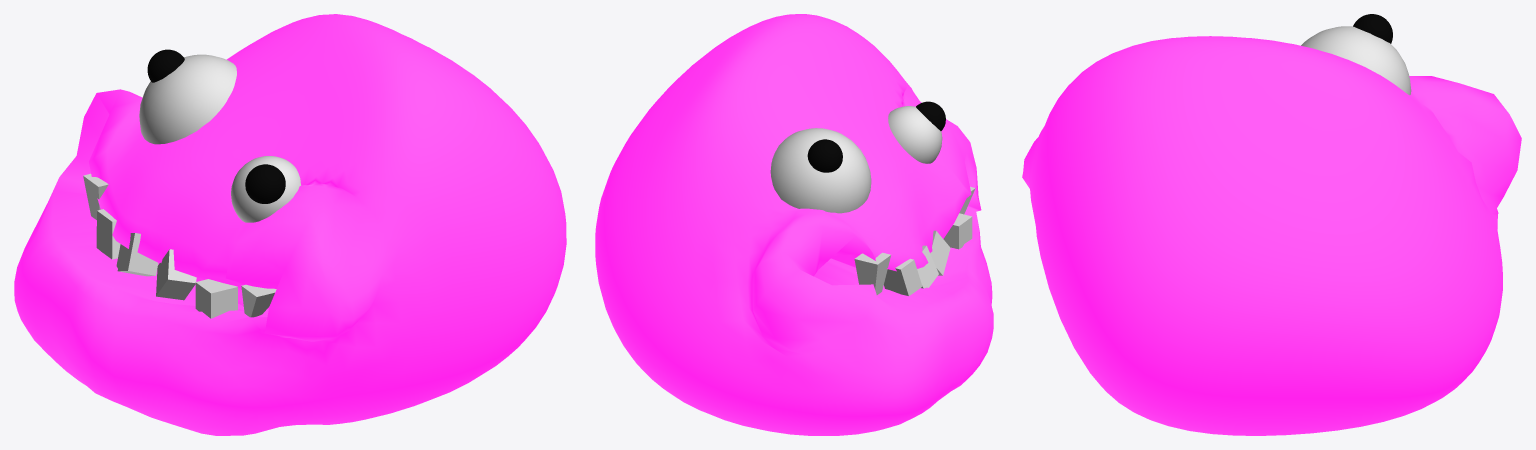
The model's file is SlimeBuddy.fbx.
3 renders of one model, left to right at view 1: azimuth 30°, elevation 25°; view 2: azimuth 150°, elevation 25°; view 3: azimuth 270°, elevation 25°, orthographic. The views are drawn at different scales.
Visible parts, largest first — view 1: Cube; view 2: Cube; view 3: Cube.
Part boxes in pixels (x1,y1,x2,y2): Cube: (14, 14, 566, 435); Cube: (595, 14, 993, 435); Cube: (1022, 14, 1521, 435).
Size of the model in its own units: 405 by 342 by 390.
